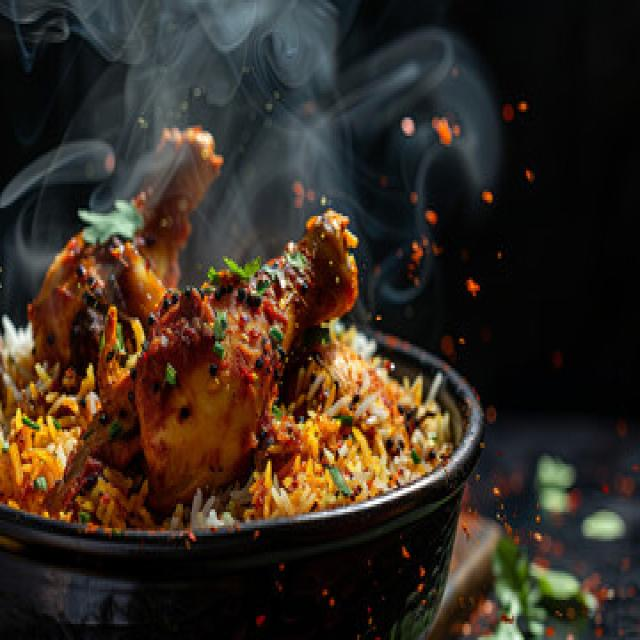BIRIYANI: (0, 128, 462, 533)
